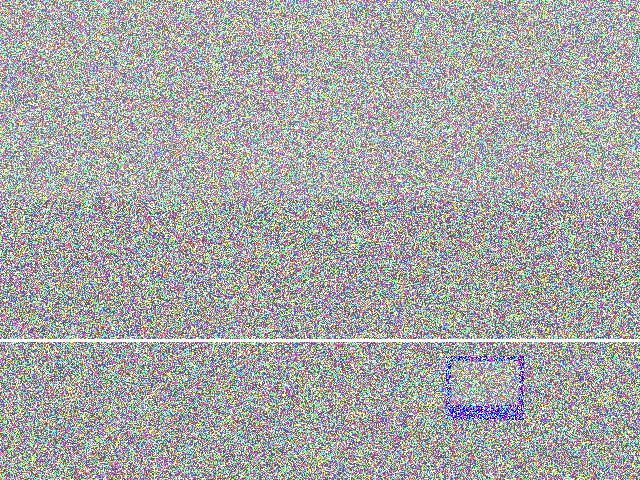car: (228, 216, 412, 348)
